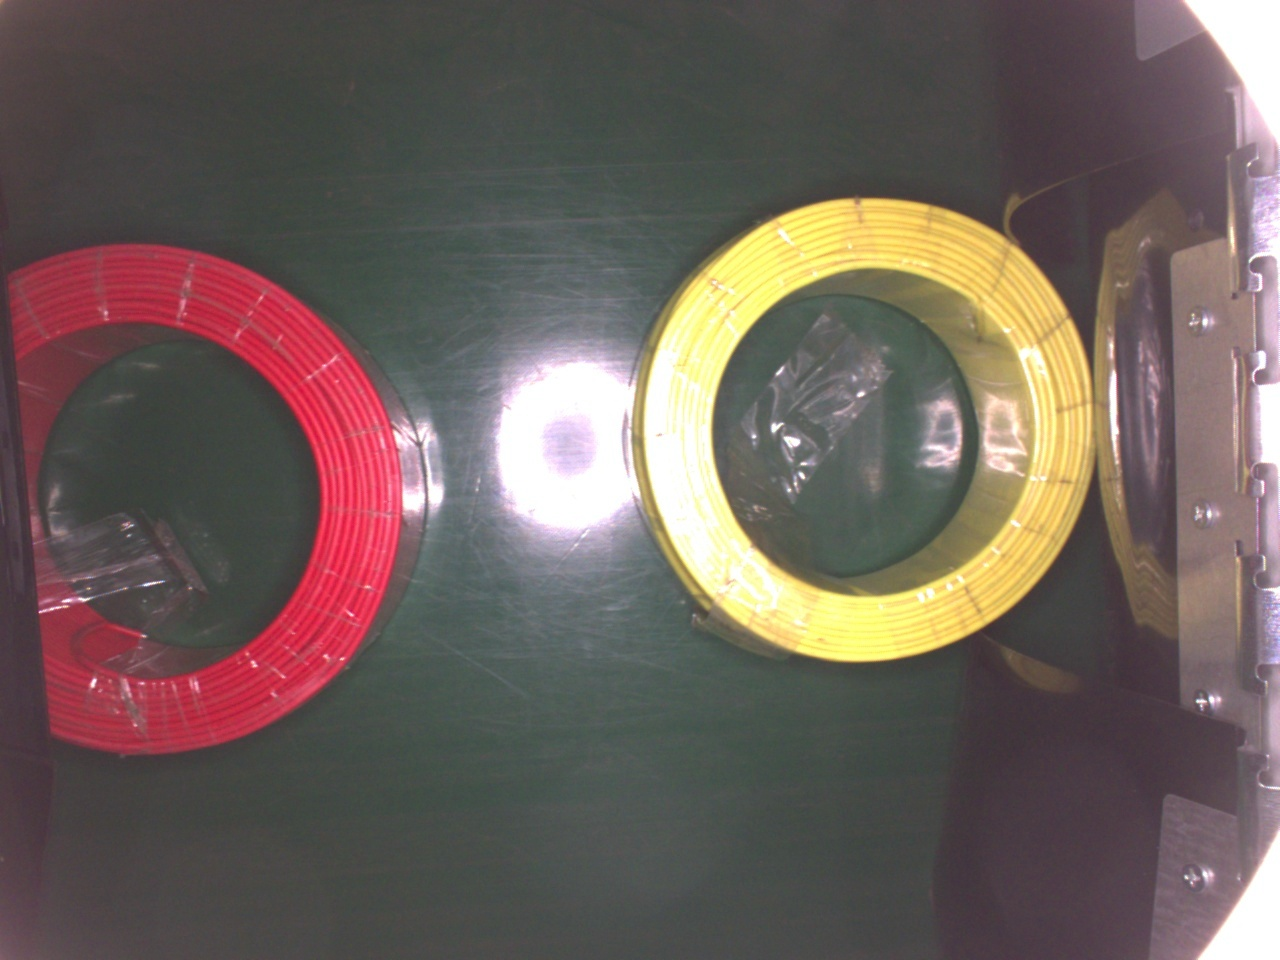red: (0, 240, 433, 757)
yellow: (625, 193, 1096, 662)
